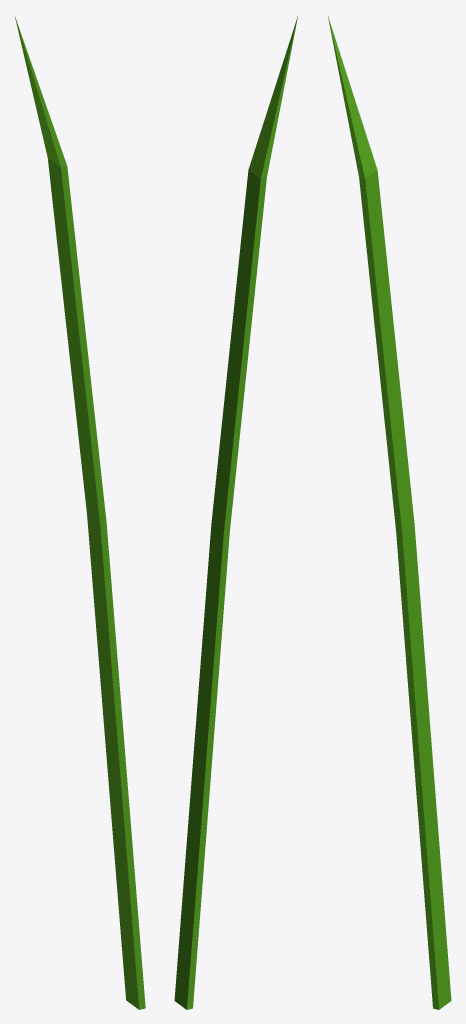
File: GrassSingle_a_01.fbx
3 renders of one model, left to right at view 1: azimuth 30°, elevation 25°; view 2: azimuth 210°, elevation 25°; view 3: azimuth 330°, elevation 25°, orthographic. The views are drawn at different scales.
Visible parts, largest first — view 1: GrassSingle_a_01_LOD0; view 2: GrassSingle_a_01_LOD0; view 3: GrassSingle_a_01_LOD0.
Part boxes in pixels (x1,y1,x2,y2): GrassSingle_a_01_LOD0: (15,17,145,1009); GrassSingle_a_01_LOD0: (174,15,298,1009); GrassSingle_a_01_LOD0: (327,15,451,1009).
Size of what is drawn, in the model's own units: 3.54 by 27.65 by 0.6451.
